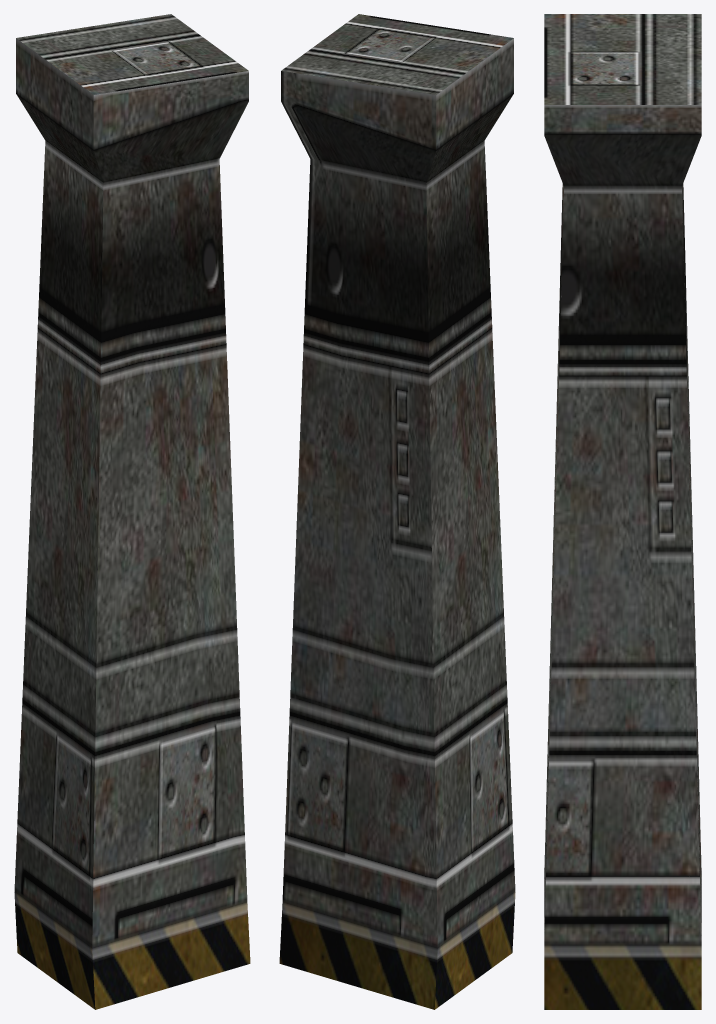
The model's file is colum.FBX.
3 renders of one model, left to right at view 1: azimuth 30°, elevation 25°; view 2: azimuth 150°, elevation 25°; view 3: azimuth 270°, elevation 25°, orthographic.
Visible parts, largest first — view 1: Box06; view 2: Box06; view 3: Box06.
Part boxes in pixels (bbox=[...]): Box06: bbox=[14, 14, 250, 1009]; Box06: bbox=[279, 14, 515, 1009]; Box06: bbox=[544, 14, 701, 1009].
Bounding box in the file's own units: 82.84 × 458 × 70.55.
1 material, 1 textured.
